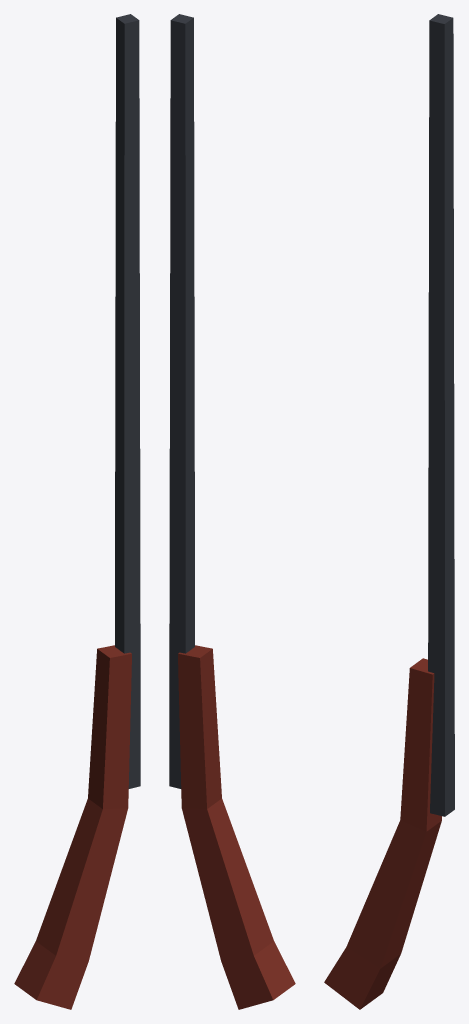
The model's file is SM_Prop_ArmadaMusket_LQ.glb.
3 views of the same model, side by side, from view 1: azimuth 30°, elevation 25°; view 2: azimuth 150°, elevation 25°; view 3: azimuth 330°, elevation 25° (orthographic). The views are drawn at different scales.
Parts seen in each view (by area): view 1: SM_Prop_ArmadaMusket_LQ; view 2: SM_Prop_ArmadaMusket_LQ; view 3: SM_Prop_ArmadaMusket_LQ.
Boxes of the visible parts, x1,y1,x2,y2 form: SM_Prop_ArmadaMusket_LQ: (14, 14, 140, 1009); SM_Prop_ArmadaMusket_LQ: (169, 14, 295, 1009); SM_Prop_ArmadaMusket_LQ: (324, 14, 454, 1009).
Size of the model in its own units: 0.1693 by 1.41 by 0.0594.
Materials: 1 (1 with a texture image).
